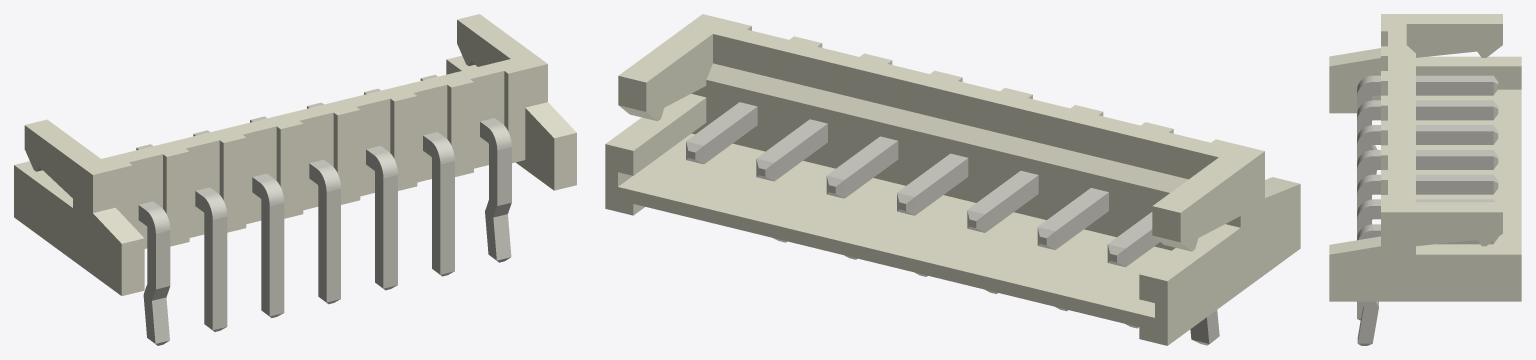
The model's file is kc-jst_eh_s7b-eh_1x07_p2.50mm_horizontal.glb.
The picture shows the model from 3 angles, left to right: view 1: azimuth 30°, elevation 25°; view 2: azimuth 150°, elevation 25°; view 3: azimuth 270°, elevation 25°; orthographic projection. The views are drawn at different scales.
Parts seen in each view (by area): view 1: 0.75_0.75_0.5833333333333334_0, 0.6666666666666666_0.6666666666666666_0.5833333333333334_0.8; view 2: 0.75_0.75_0.5833333333333334_0, 0.6666666666666666_0.6666666666666666_0.5833333333333334_0.8; view 3: 0.75_0.75_0.5833333333333334_0, 0.6666666666666666_0.6666666666666666_0.5833333333333334_0.8.
Boxes of the visible parts, x1,y1,x2,y2 form: 0.75_0.75_0.5833333333333334_0: (14,14,576,295); 0.6666666666666666_0.6666666666666666_0.5833333333333334_0.8: (136,74,511,345); 0.75_0.75_0.5833333333333334_0: (605,14,1300,345); 0.6666666666666666_0.6666666666666666_0.5833333333333334_0.8: (686,102,1219,345); 0.75_0.75_0.5833333333333334_0: (1329,14,1521,301); 0.6666666666666666_0.6666666666666666_0.5833333333333334_0.8: (1357,75,1498,345).
Bounding box in the file's own units: 2 × 0.74 × 0.8199.
